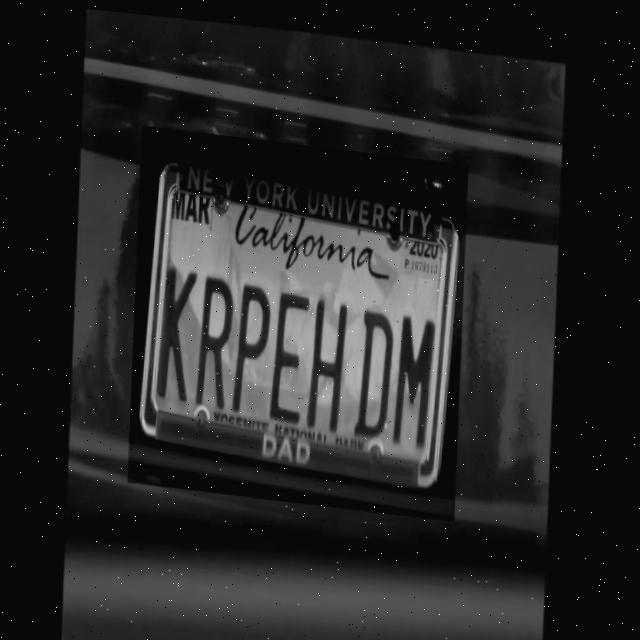LicensePlate: (129, 121, 469, 512)
